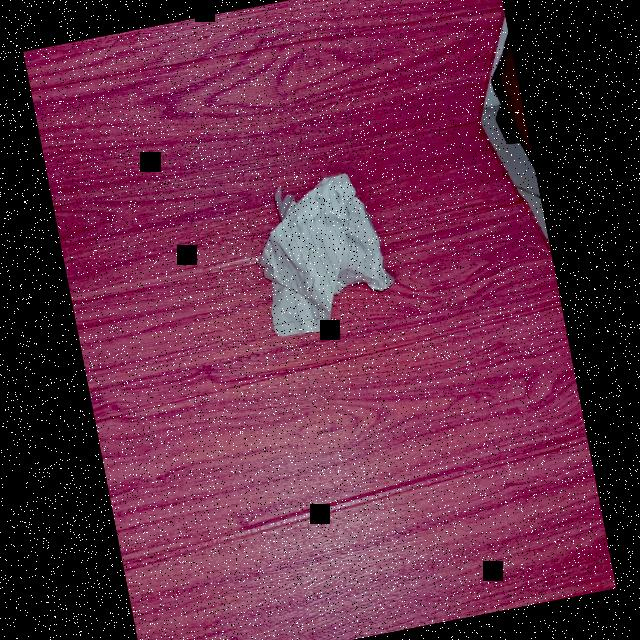scrap_paper: (248, 162, 404, 340)
